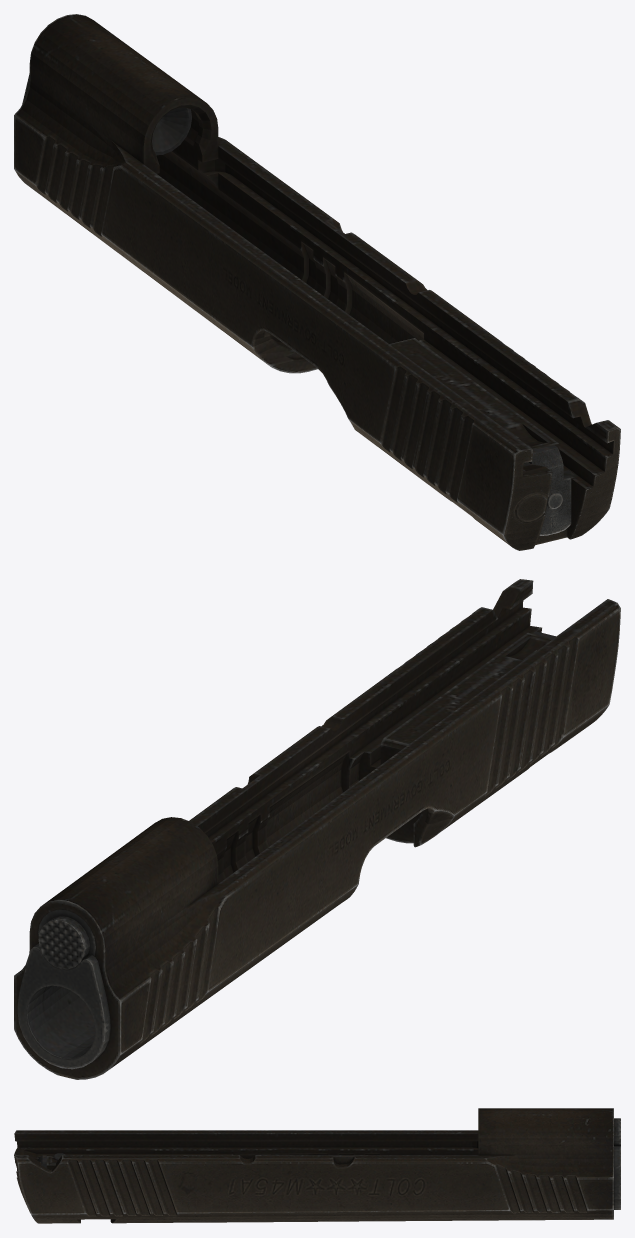
3 views of the same model, one above another, from view 1: azimuth 30°, elevation 25°; view 2: azimuth 150°, elevation 25°; view 3: azimuth 270°, elevation 25° (orthographic). The views are drawn at different scales.
Parts seen in each view (by area): view 1: TW_5f3e7823ddc4f03b010e2045_PZ_Import; view 2: TW_5f3e7823ddc4f03b010e2045_PZ_Import; view 3: TW_5f3e7823ddc4f03b010e2045_PZ_Import.
Part boxes in pixels (x1,y1,x2,y2): TW_5f3e7823ddc4f03b010e2045_PZ_Import: [14, 14, 620, 550]; TW_5f3e7823ddc4f03b010e2045_PZ_Import: [14, 579, 620, 1079]; TW_5f3e7823ddc4f03b010e2045_PZ_Import: [14, 1108, 620, 1223].
Bounding box in the file's own units: 0.0134 × 0.1111 × 0.0219.
Materials: 1 (1 with a texture image).
